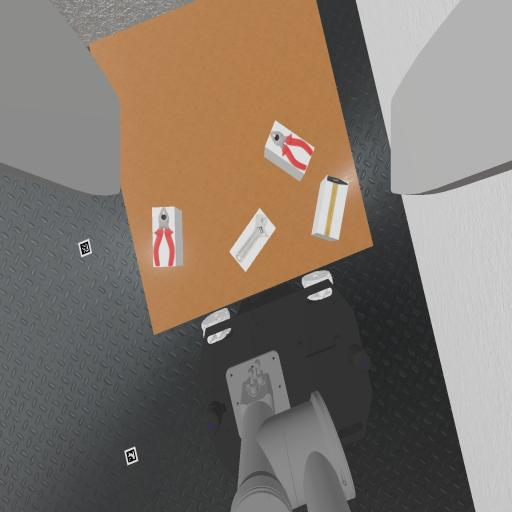hammer: (325, 176, 347, 235)
pliers: (271, 131, 313, 170), (153, 208, 174, 266)
wrench: (236, 215, 268, 261)
